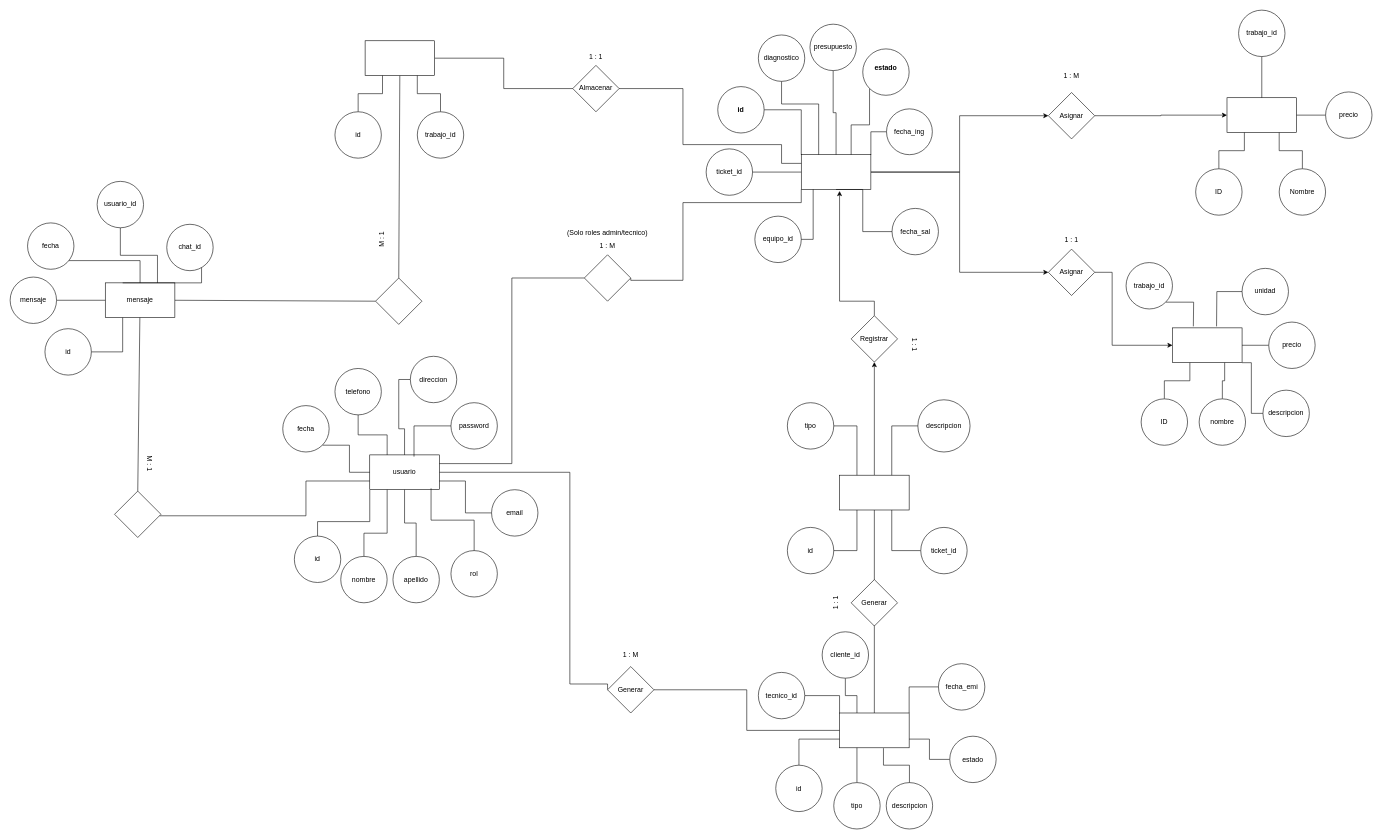
Image size: 1382x839. Some labels were removed from this diagram. The shapes that lost their labels are listed below. From the top down, each one's centre as x and y in pixels, then its label:
At (400,58): "chat".
At (1261,115): "servicio".
At (836,171): "trabajo".
At (607,277): "Realizar".
At (398,300): "Contener".
At (1207,345): "componente".
At (874,492): "equipo".
At (137,514): "Enviar".
At (874,730): "ticket".
